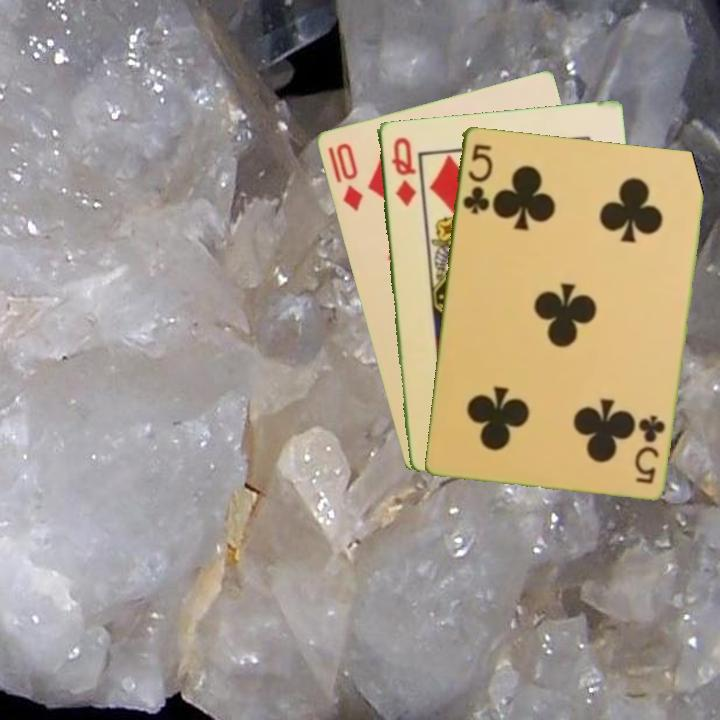10d: (332, 139, 365, 214)
5c: (459, 140, 495, 216), (633, 411, 668, 486)
Qd: (388, 133, 418, 209)
